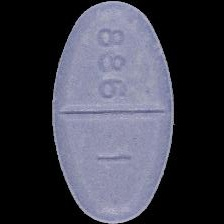68788-9901: (0, 0, 224, 224)
